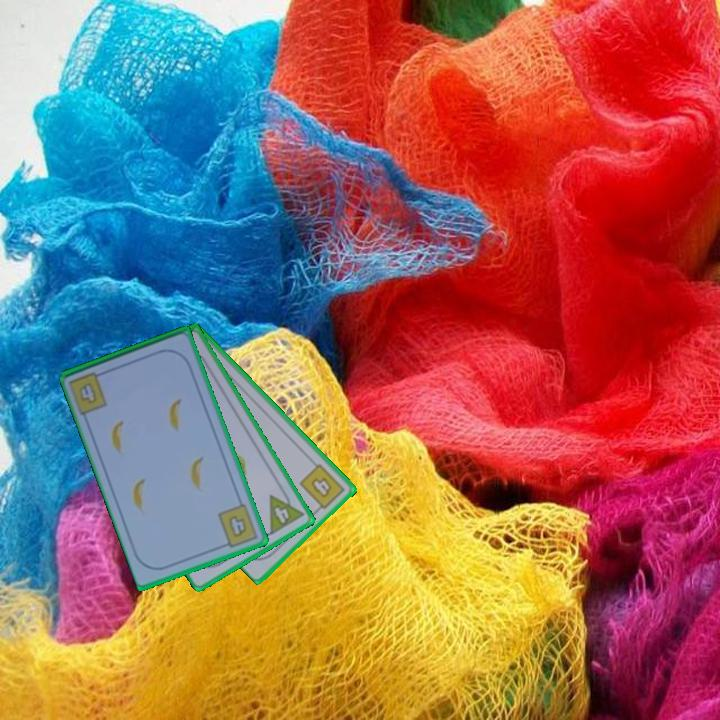4b: (296, 460, 348, 515), (214, 500, 261, 551), (75, 379, 100, 407)
4p: (266, 485, 307, 538)
